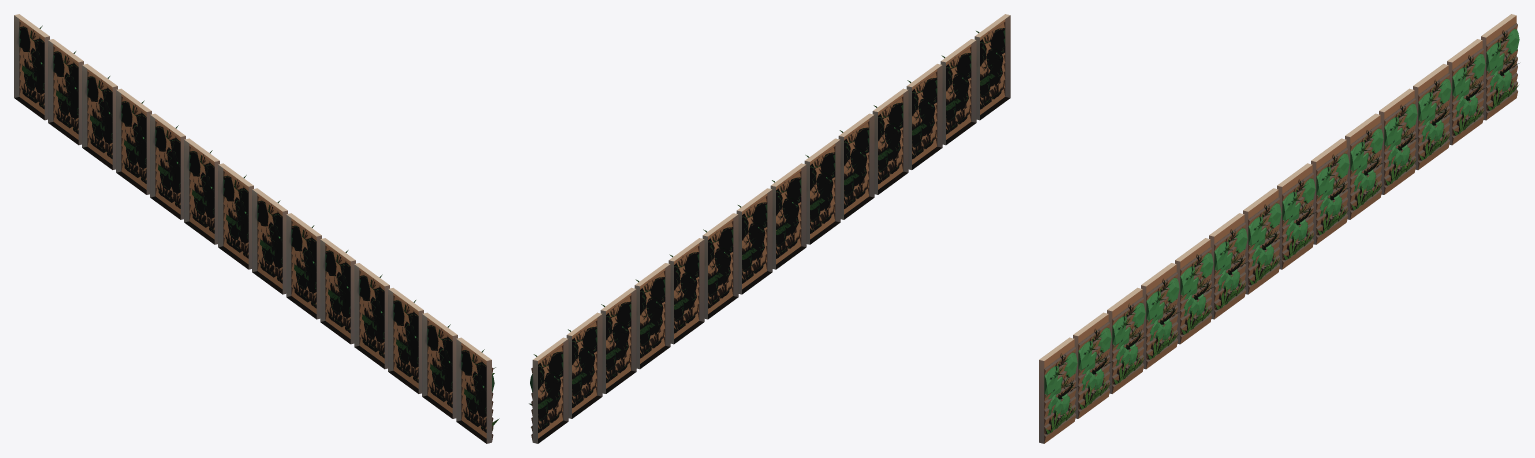
The model's file is house-wall-wood-green-2x3m.013.glb.
3 renders of one model, left to right at view 1: azimuth 30°, elevation 25°; view 2: azimuth 150°, elevation 25°; view 3: azimuth 330°, elevation 25°, orthographic.
Visible parts, largest first — view 1: house-wall-wood-green-2x3m.013_Baked; view 2: house-wall-wood-green-2x3m.013_Baked; view 3: house-wall-wood-green-2x3m.013_Baked.
Part boxes in pixels (box(x1,y1,x2,y2)): house-wall-wood-green-2x3m.013_Baked: box(14, 14, 499, 443); house-wall-wood-green-2x3m.013_Baked: box(529, 14, 1010, 443); house-wall-wood-green-2x3m.013_Baked: box(1039, 14, 1519, 443).
Bounding box in the file's own units: 0.6824 × 3 × 31.05.
Materials: 1 (1 with a texture image).
